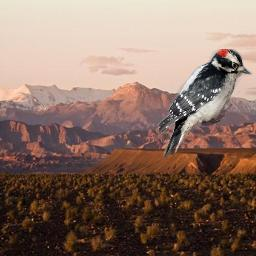Woodpecker: (158, 49, 255, 160)
